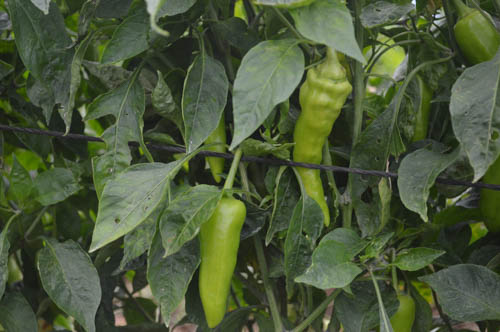ChiliPepper: (297, 69, 350, 229), (196, 200, 247, 329), (453, 13, 496, 64), (405, 82, 433, 140), (199, 121, 226, 179)
